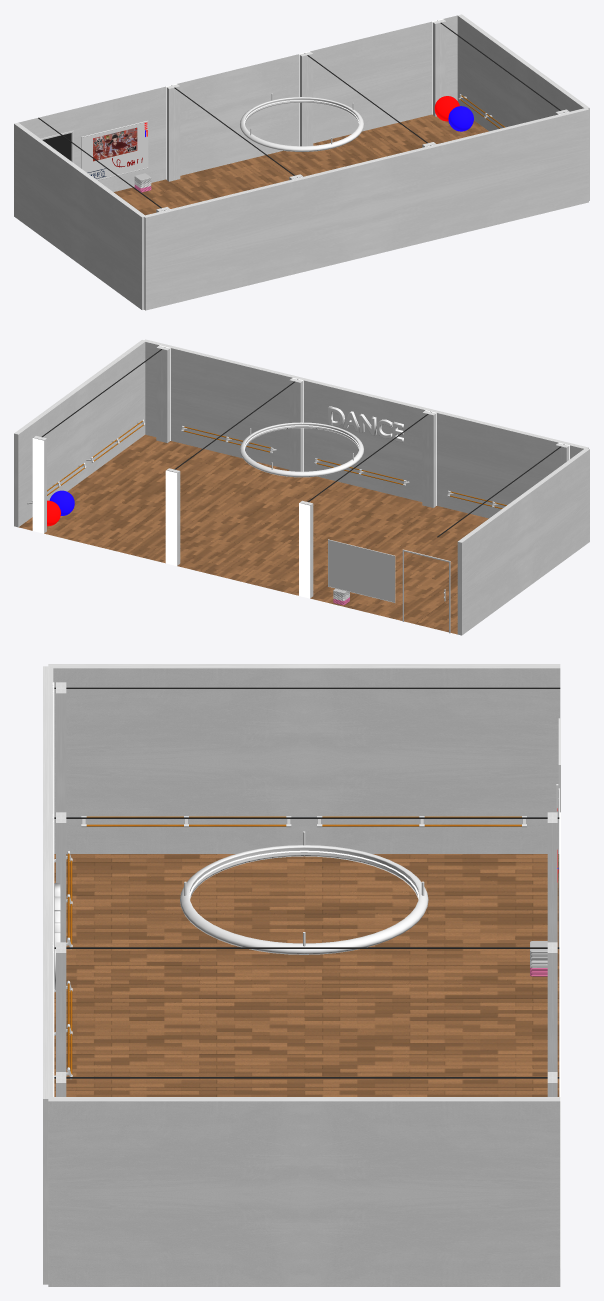
File: Dance Studio_black_haihuyou.glb
The picture shows the model from 3 angles, top to bottom: view 1: azimuth 30°, elevation 25°; view 2: azimuth 150°, elevation 25°; view 3: azimuth 270°, elevation 25°; orthographic projection. The views are drawn at different scales.
Visible parts, largest first — view 1: Cube (2), Plane (×2), Cube (1), Cube, boad, ring (4), Cube (19), Cube (18), Cube (16), postor, ball2, Plane (1) (+1 smaller); view 2: Plane, Cube (2), Cube (1), Cube, boad, ring (4), Cube (8), Cube (11), Cube (10), Cube (23), Cube (24), Cube (25) (+4 smaller); view 3: Plane, Cube, Cube (1), ring (4), Cube (2), Cube (9), Cube (19), Cube (10), Cube (18), Cube (11), Cube (13), Cube (12) (+2 smaller).
Part boxes in pixels (x1,y1,x2,y2): Cube (2): (143,107,588,310); Plane (×2): (18,15,488,215); Cube (1): (14,122,144,309); Cube: (457,14,589,200); boad: (81,121,147,179); ring (4): (240,97,363,151); Cube (19): (166,84,180,181); Cube (18): (299,52,313,146); Cube (16): (432,19,446,116); postor: (93,127,137,161); ball2: (448,106,473,131); Plane (1): (42,133,71,161); Plane: (18,434,488,634); Cube (2): (144,339,588,518); Cube (1): (457,448,589,635); Cube: (14,340,145,527); boad: (328,540,394,602); ring (4): (240,422,363,477); Cube (8): (156,346,169,442); Cube (11): (422,411,435,507); Cube (10): (289,378,302,471); Cube (23): (32,438,44,533); Cube (24): (165,470,177,565); Cube (25): (299,503,310,598); Plane: (54,854,559,1096); Cube: (48,1097,560,1286); Cube (1): (48,664,560,853); ring (4): (180,845,428,954); Cube (2): (43,666,53,1284); Cube (9): (56,682,66,812); Cube (19): (547,812,557,942); Cube (10): (56,942,66,1071); Cube (18): (547,942,557,1071); Cube (11): (56,812,66,942); Cube (13): (54,687,560,688); Cube (12): (54,1077,559,1078).
Bounding box in the file's own units: 20.2 × 4.04 × 10.11.
15 materials, 8 textured.
